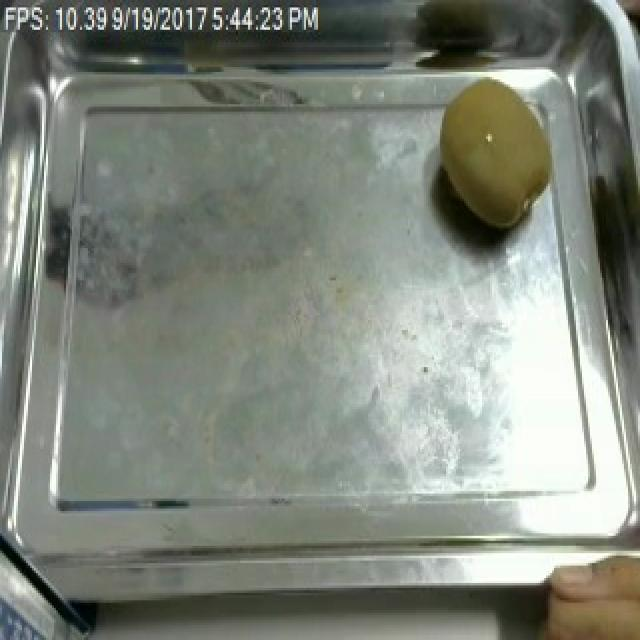Fruit: (422, 65, 572, 243), (518, 541, 640, 640)
